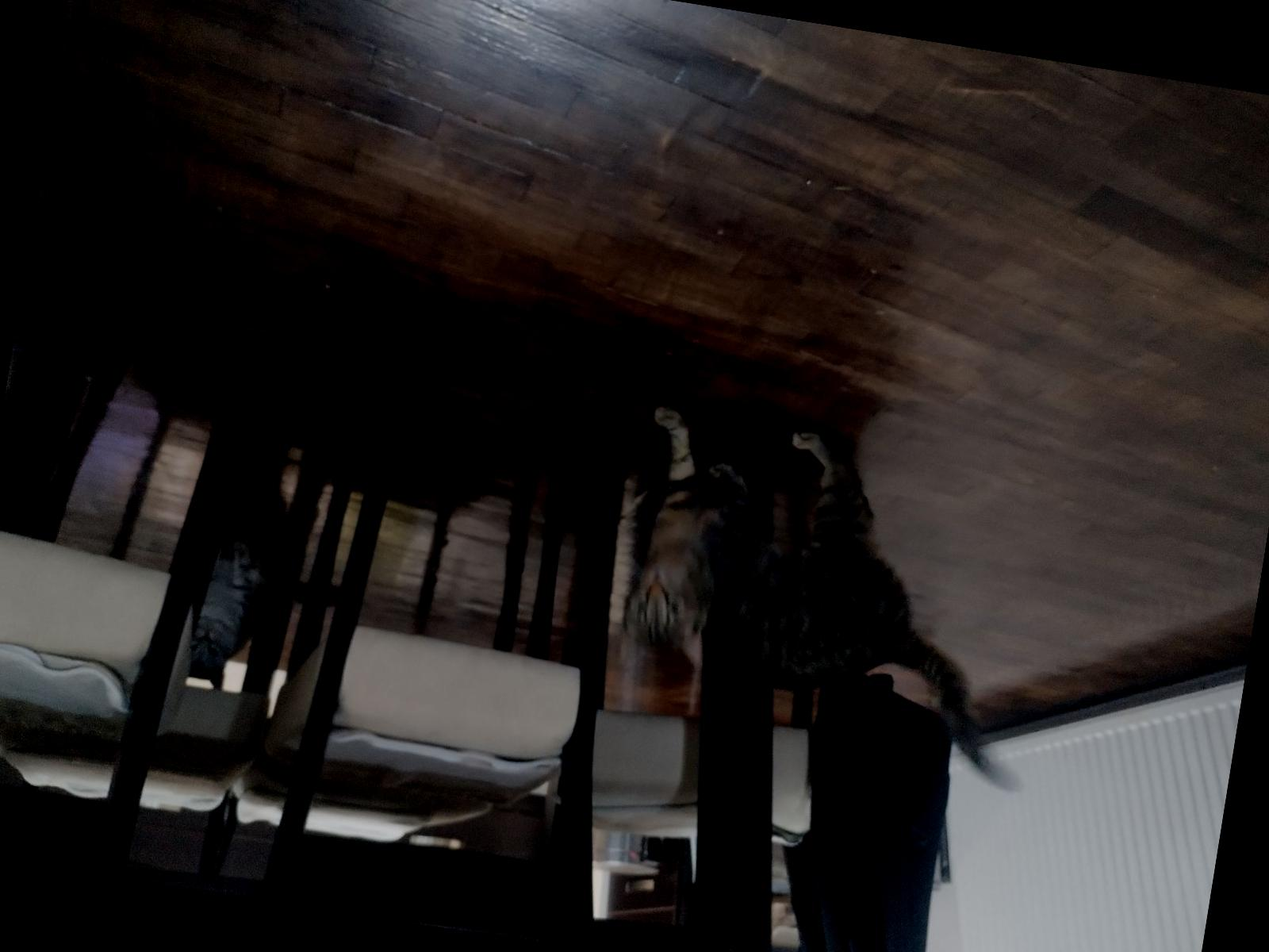macka: (600, 402, 1070, 795), (171, 531, 284, 698)
